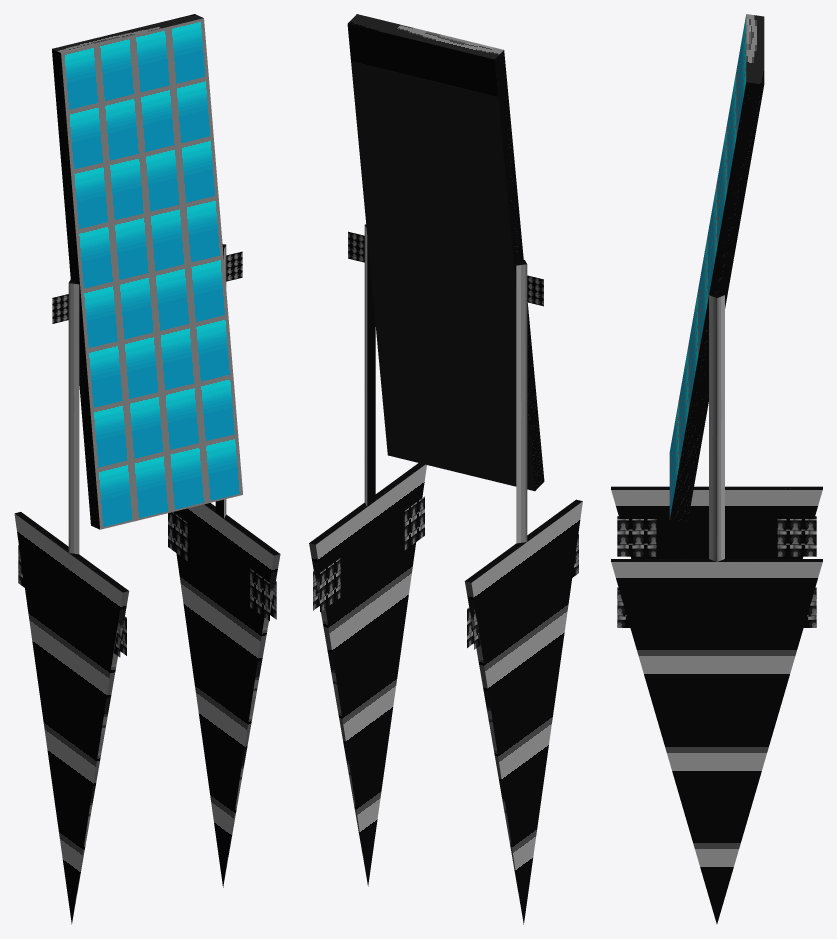
3 renders of one model, left to right at view 1: azimuth 30°, elevation 25°; view 2: azimuth 150°, elevation 25°; view 3: azimuth 270°, elevation 25°, orthographic. The views are drawn at different scales.
Parts seen in each view (by area): view 1: 3763kg_sh0_10; view 2: 3763kg_sh0_10; view 3: 3763kg_sh0_10.
Part boxes in pixels (x1,y1,x2,y2): 3763kg_sh0_10: (14, 14, 280, 924); 3763kg_sh0_10: (309, 14, 582, 924); 3763kg_sh0_10: (611, 14, 822, 923).
Size of the model in its own units: 0.708 by 3.06 by 0.6973.
Materials: 3 (3 with a texture image).
